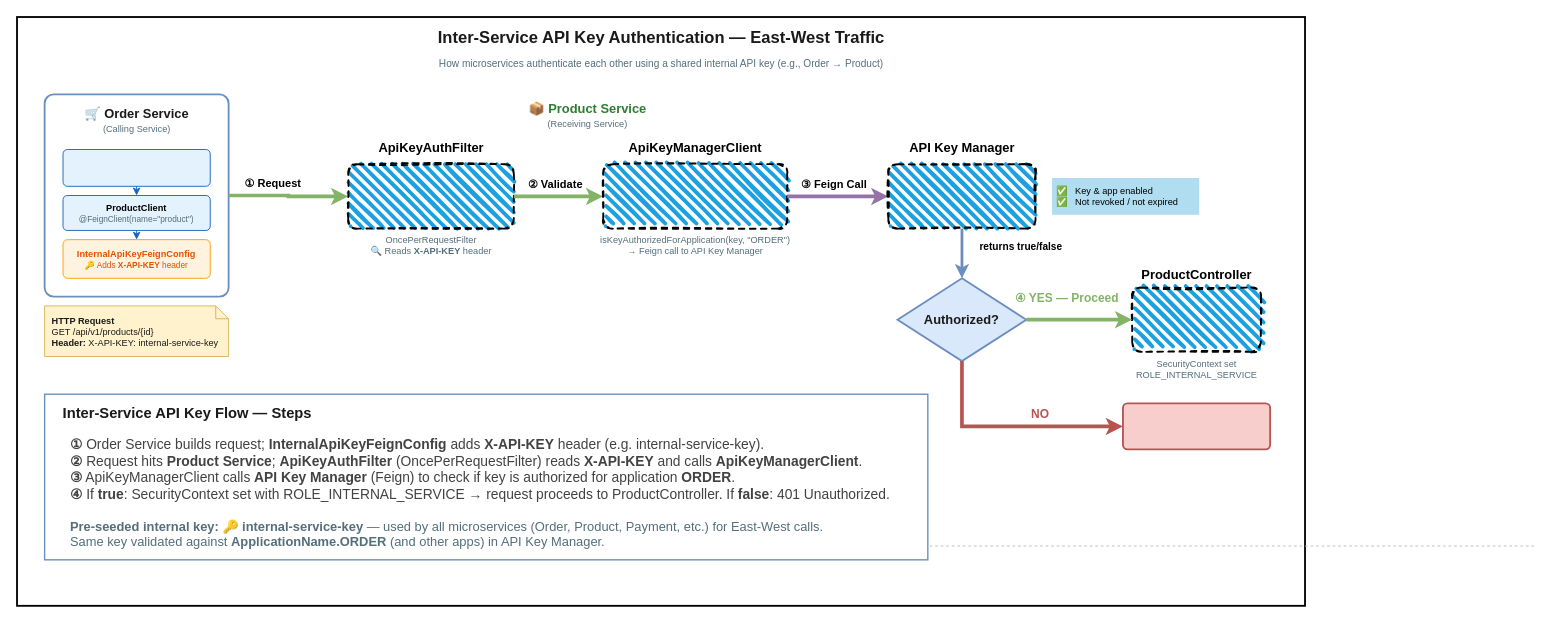
This 1552x622 diagram has some shape labels left out. The shapes that lost their labels are listed below. From the top down, each one's centre as x and y in pixels, then its label:
At pixel 136 167: "OrderServiceImpl createOrder()".
At pixel 1196 426: "🚫 401 Unauthorized".
